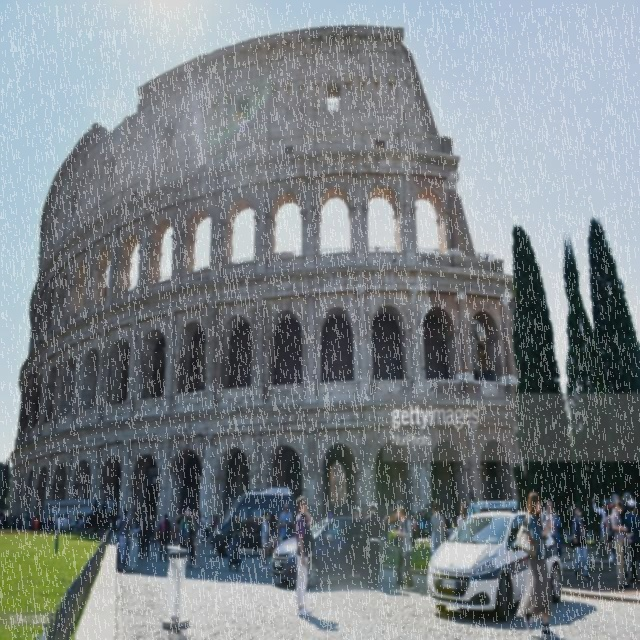pessoa: (512, 488, 560, 640), (0, 495, 120, 536), (294, 494, 314, 618), (382, 505, 456, 533), (610, 499, 632, 590), (568, 502, 592, 583), (592, 491, 618, 564), (362, 500, 382, 590), (395, 503, 415, 592), (623, 497, 639, 586), (260, 511, 280, 577), (620, 490, 634, 578), (393, 498, 406, 586), (291, 612, 340, 634), (430, 498, 448, 556), (118, 506, 132, 568), (138, 509, 154, 562), (539, 499, 557, 544), (226, 529, 244, 573), (278, 500, 296, 542), (456, 501, 473, 544), (174, 508, 190, 550), (192, 508, 203, 568), (309, 506, 356, 520), (159, 512, 172, 562), (260, 509, 270, 572), (551, 506, 562, 562), (188, 510, 198, 570), (202, 511, 220, 543), (471, 362, 499, 380), (360, 507, 371, 552), (471, 247, 498, 262), (148, 514, 158, 551), (466, 490, 479, 517), (354, 504, 364, 534), (234, 512, 244, 540), (129, 514, 142, 527), (156, 514, 162, 539)
